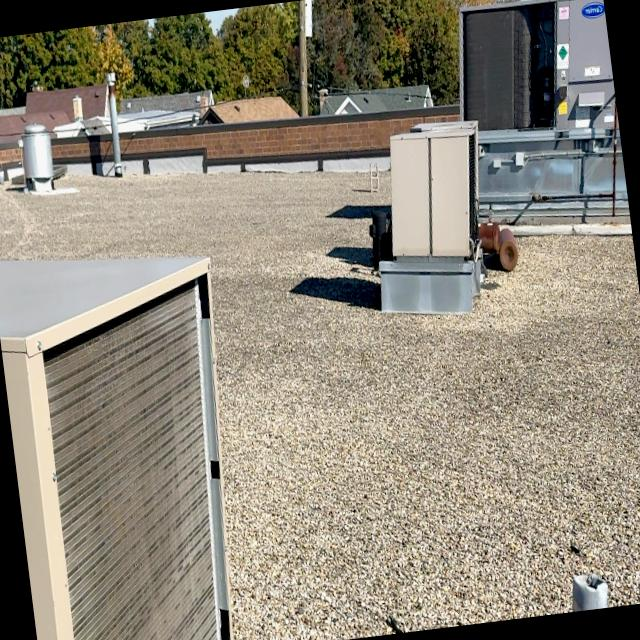GRAVITY-VENT: (10, 116, 63, 208), (100, 63, 128, 184)
RTU: (436, 0, 623, 185)
SPLIT-SYSTEM: (0, 222, 268, 640), (364, 109, 502, 282)
